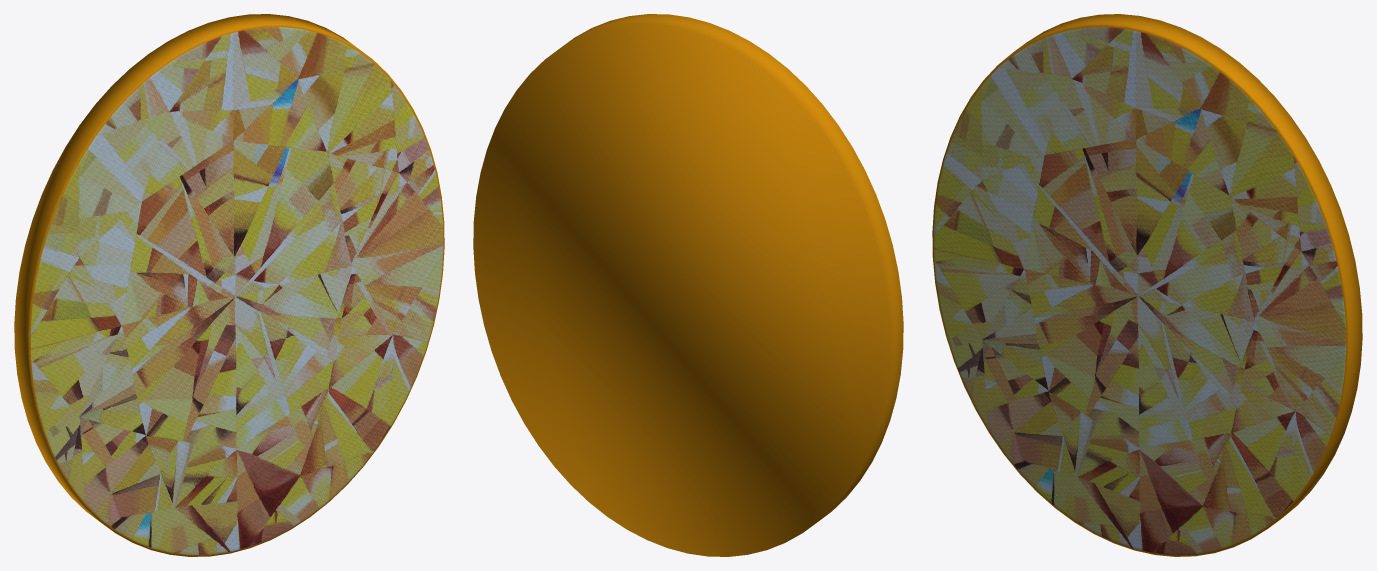
File: audrey.glb
The picture shows the model from 3 angles, left to right: view 1: azimuth 30°, elevation 25°; view 2: azimuth 150°, elevation 25°; view 3: azimuth 330°, elevation 25°; orthographic projection.
Visible parts, largest first — view 1: audrey; view 2: audrey; view 3: audrey.
Part boxes in pixels (x1,y1,x2,y2): audrey: [14, 14, 444, 556]; audrey: [473, 14, 903, 556]; audrey: [932, 14, 1362, 556].
Bounding box in the file's own units: 0.5 × 0.6 × 0.03.
Materials: 2 (1 with a texture image).
